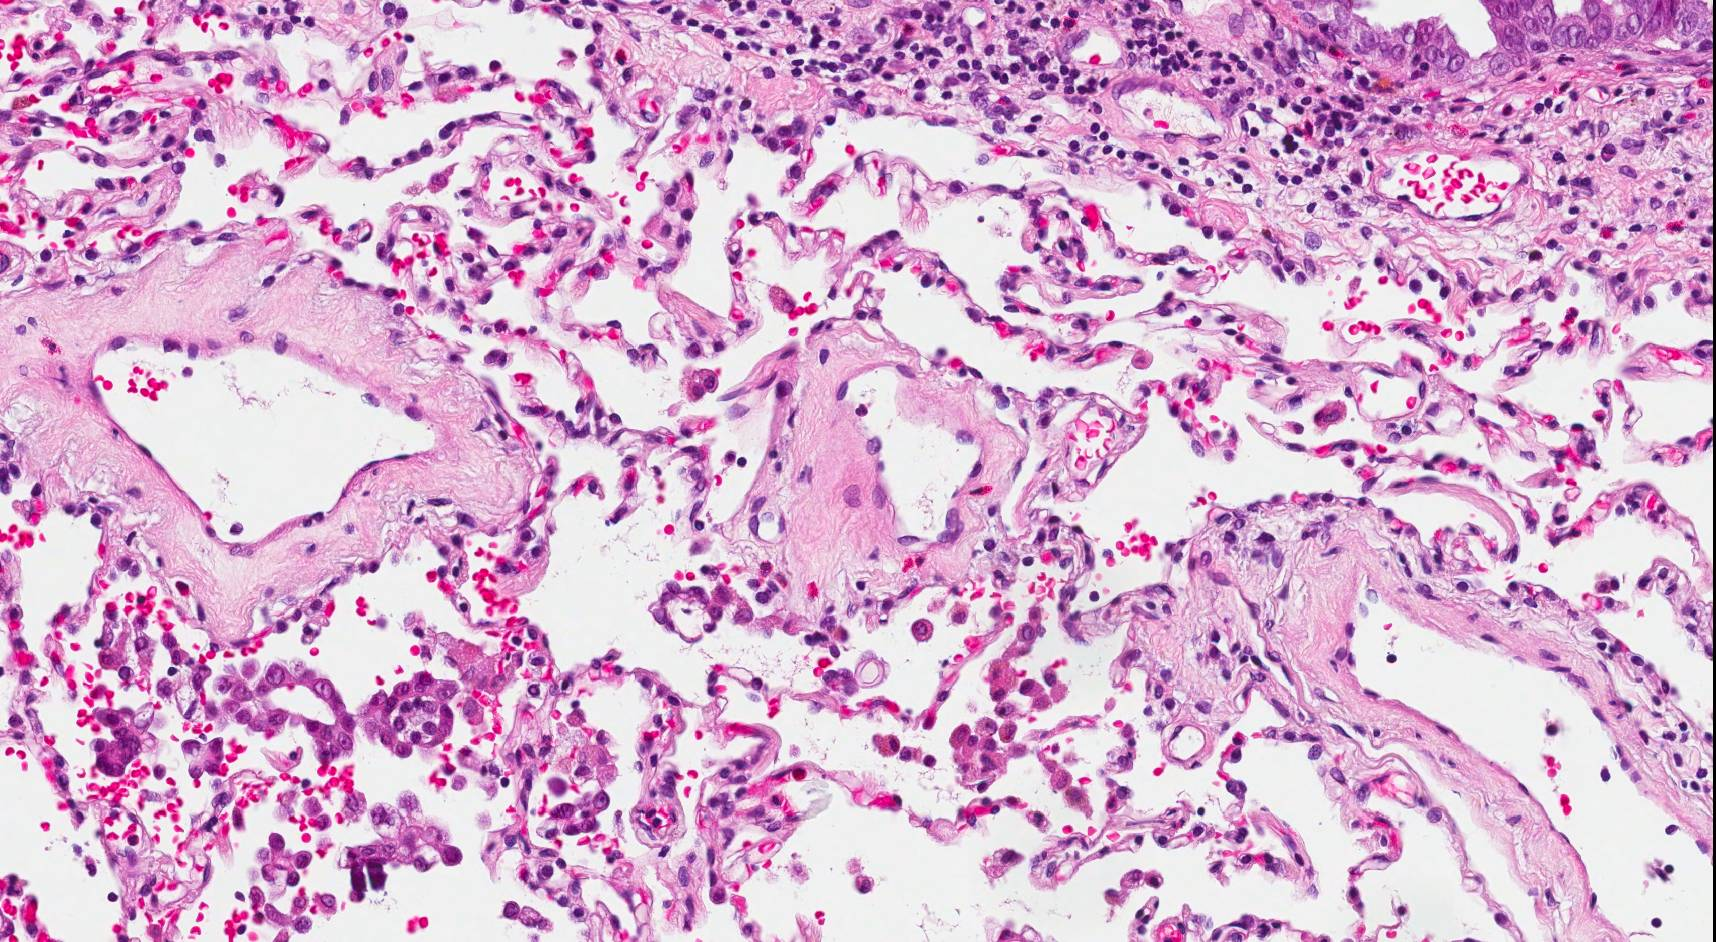stas: (210, 648, 460, 767), (335, 790, 471, 904), (246, 832, 342, 940), (643, 577, 727, 649), (87, 702, 161, 778), (540, 789, 613, 839), (175, 734, 238, 781)
